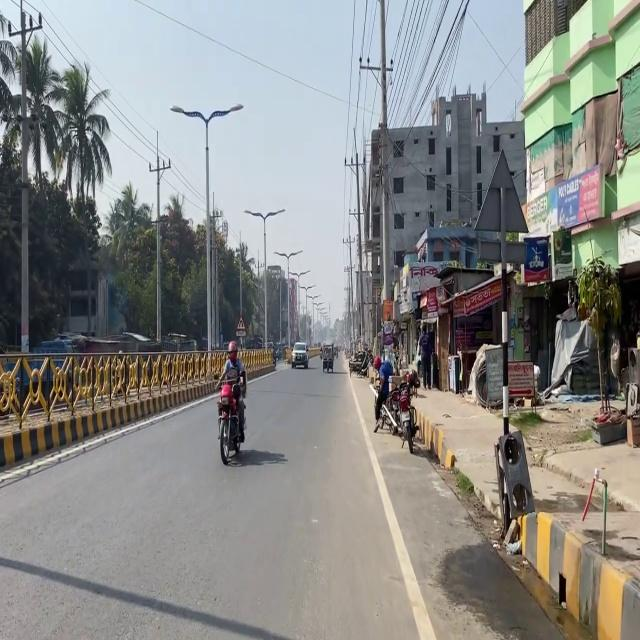Construction-barrier: (424, 452, 568, 637)
Fallen-tree: (370, 374, 401, 435), (394, 385, 418, 453), (321, 343, 334, 373)
Garbage-bin: (216, 341, 247, 445), (373, 357, 394, 422)
Muddy road: (574, 252, 627, 445)
Pole: (8, 348, 206, 460)
Pothole: (369, 364, 639, 584), (511, 396, 639, 581)
Rickshaw: (472, 148, 534, 543)
